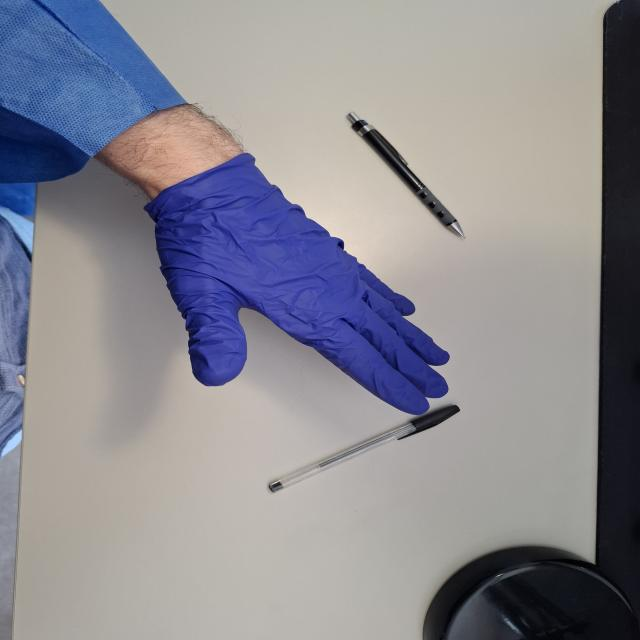glove_on: (142, 150, 450, 418)
